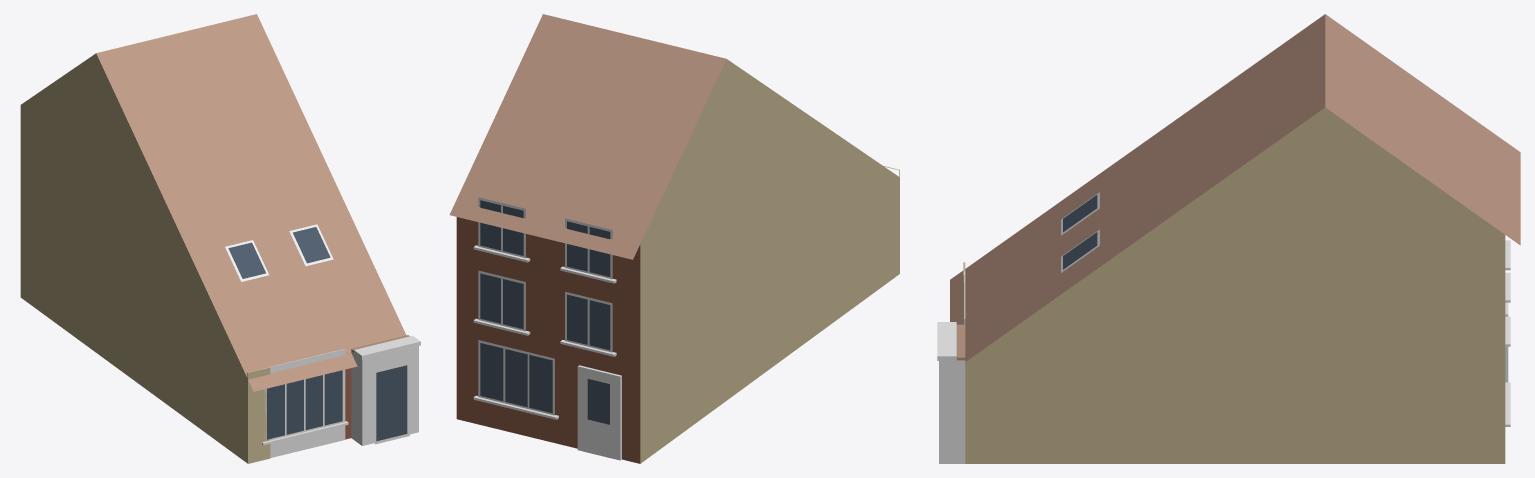
The model's file is zo-g4-roof-house__orange__3__gable__long__solid__mirror.glb.
3 views of the same model, side by side, from view 1: azimuth 30°, elevation 25°; view 2: azimuth 150°, elevation 25°; view 3: azimuth 270°, elevation 25° (orthographic). The views are drawn at different scales.
Visible parts, largest first — view 1: zo-g4-roof-house__orange__3__gable__long__solid__mirror; view 2: zo-g4-roof-house__orange__3__gable__long__solid__mirror; view 3: zo-g4-roof-house__orange__3__gable__long__solid__mirror.
Boxes of the visible parts, x1,y1,x2,y2 form: zo-g4-roof-house__orange__3__gable__long__solid__mirror: [20, 14, 420, 463]; zo-g4-roof-house__orange__3__gable__long__solid__mirror: [449, 14, 899, 463]; zo-g4-roof-house__orange__3__gable__long__solid__mirror: [937, 14, 1520, 463].
Size of the model in its own units: 5.12 by 9.05 by 13.46.
